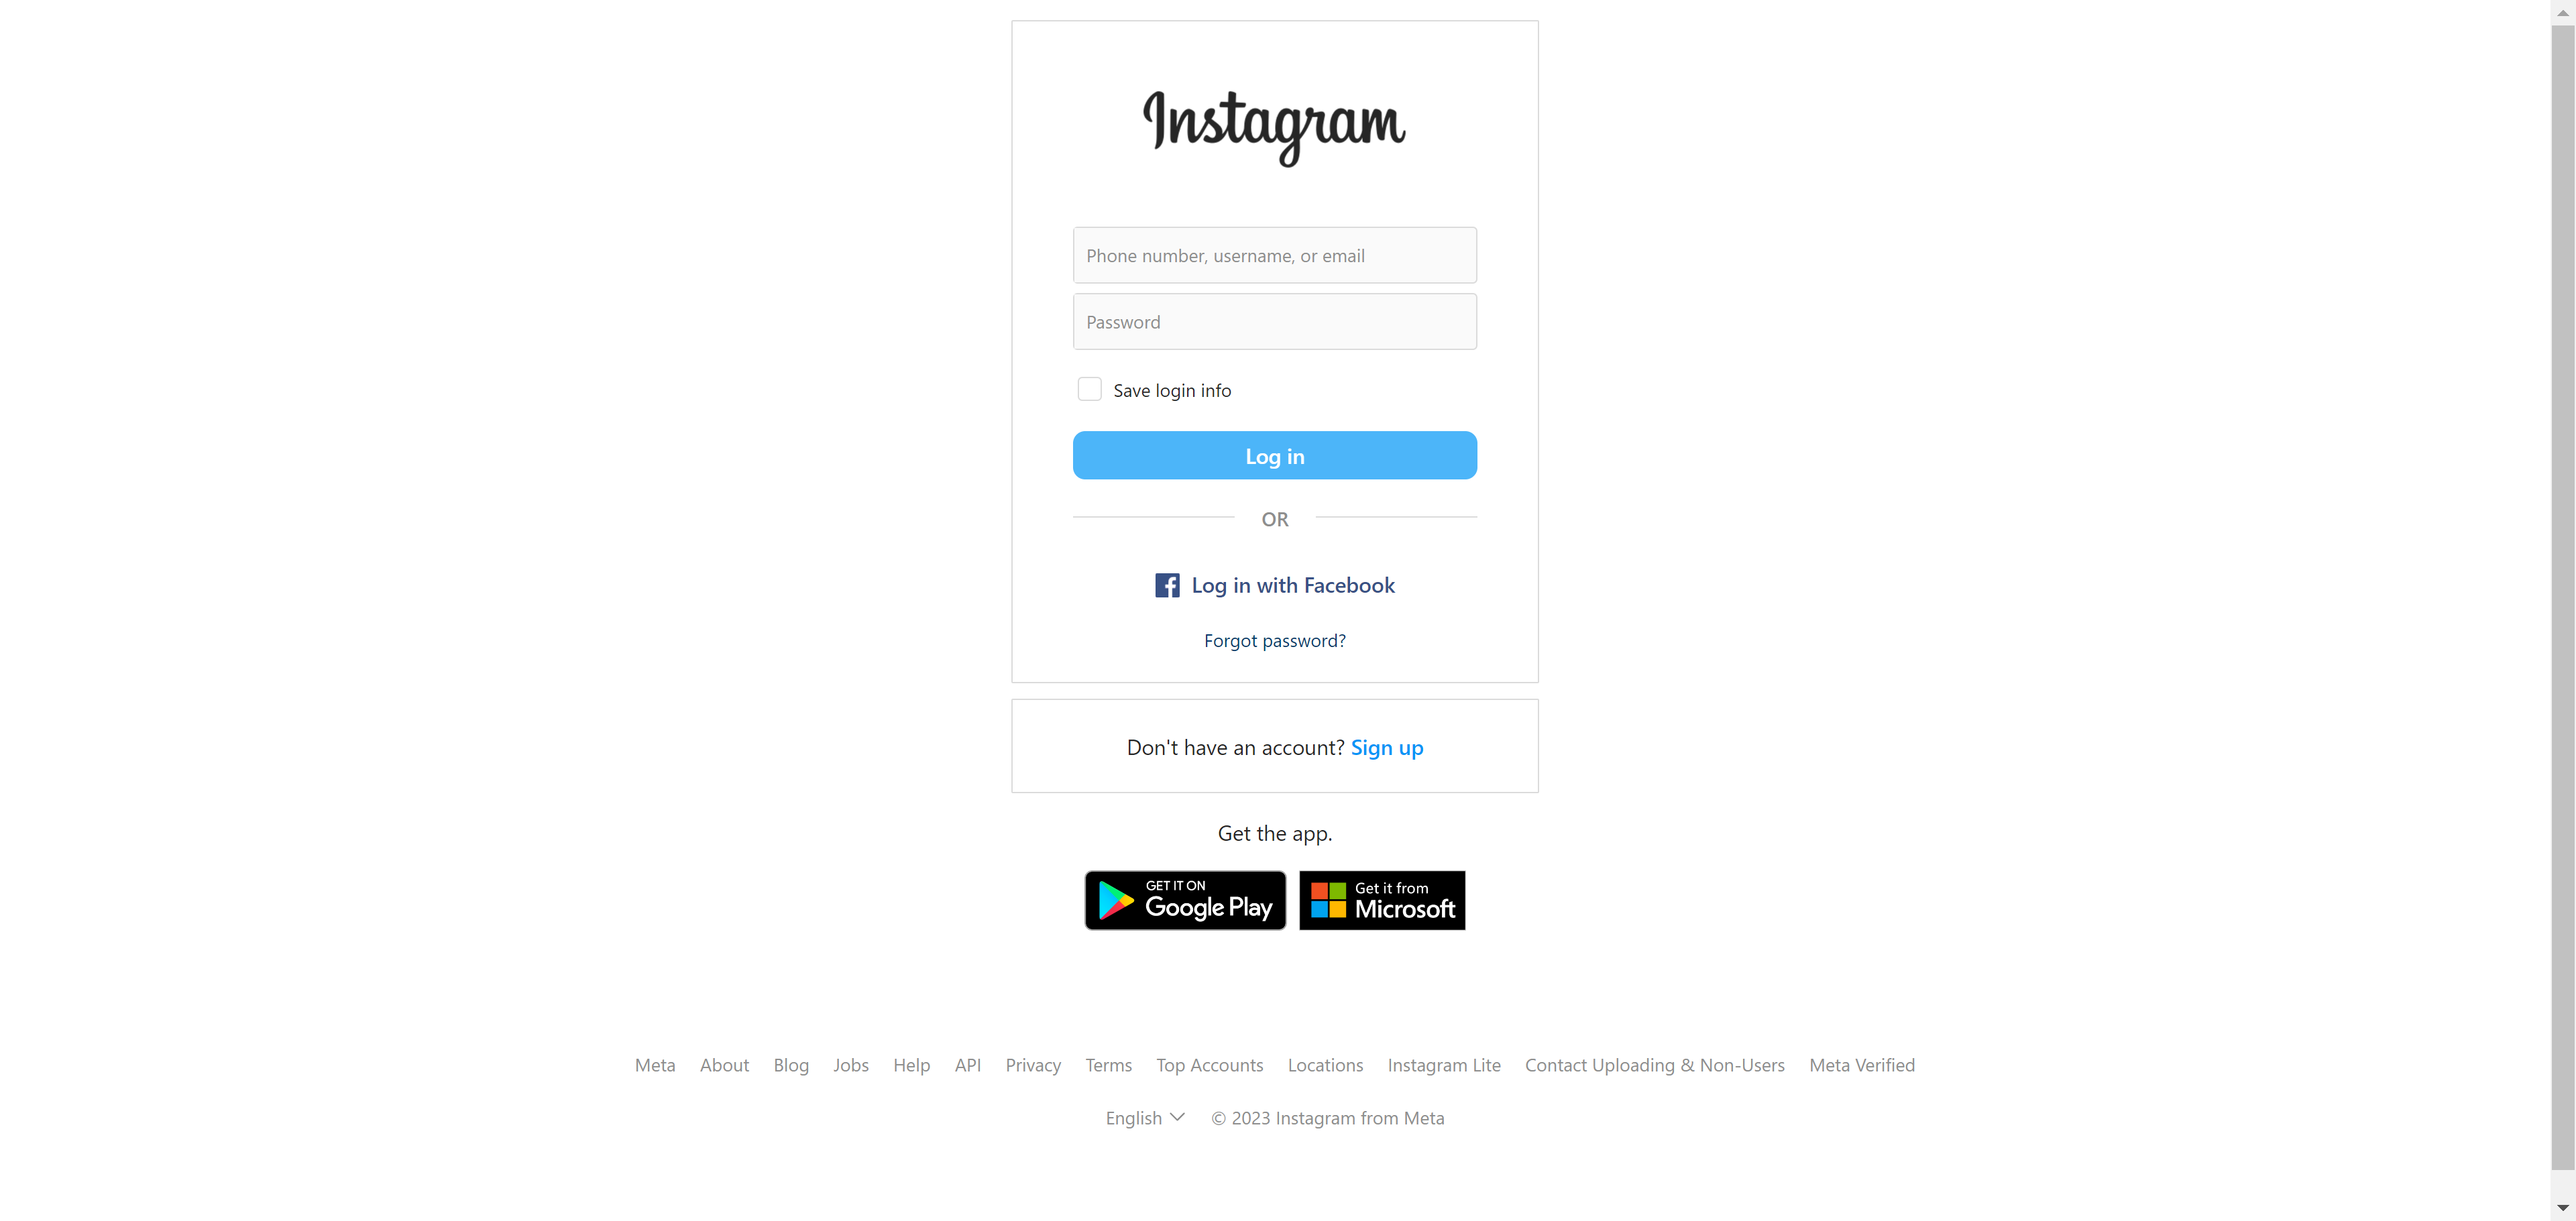login_button: (1073, 431, 1479, 480)
login_form: (1068, 222, 1482, 485)
